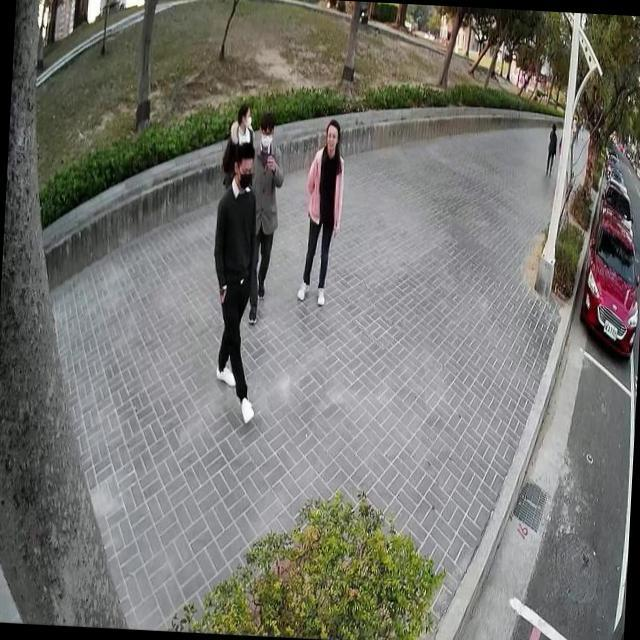person: (202, 136, 270, 427), (294, 110, 349, 312), (242, 111, 288, 328), (218, 98, 258, 188), (543, 118, 562, 180)
